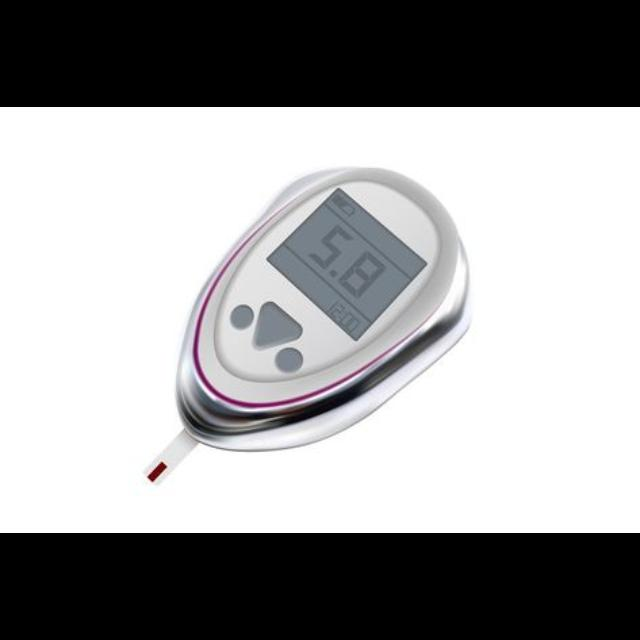Glucose-Meter: (145, 168, 470, 483)
